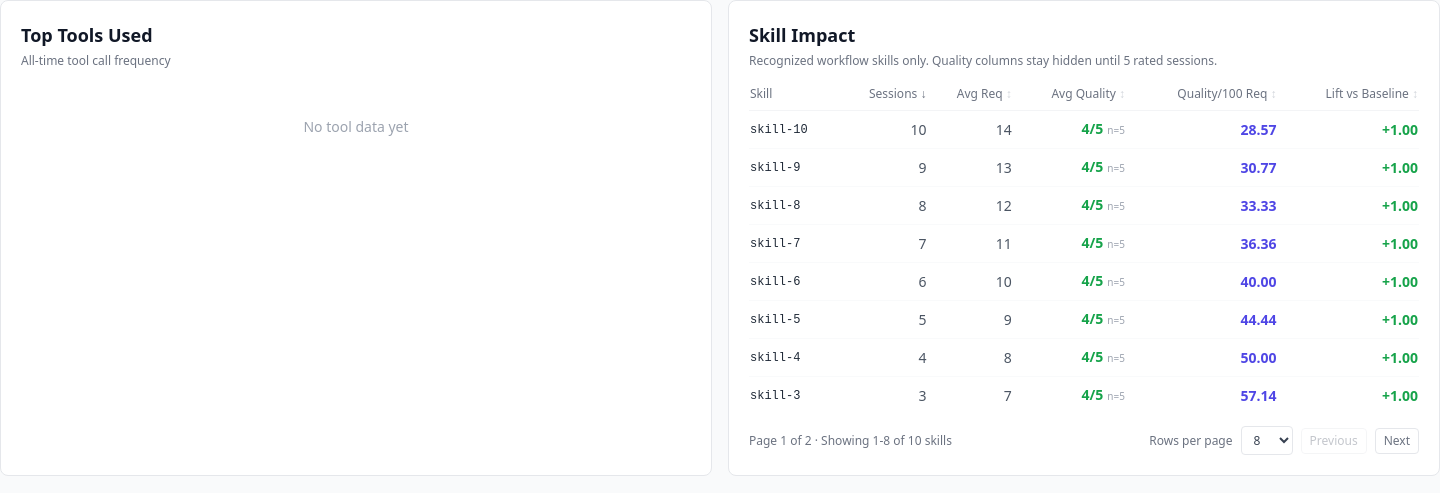
ToolBreakdown pagination › paginates the skill impact table
Expected: the text "skill-10" is shown, x1=749 y1=110 x2=838 y2=148
Click the button "Next" at (1397, 440), box x1=1375 y1=428 x2=1419 y2=454
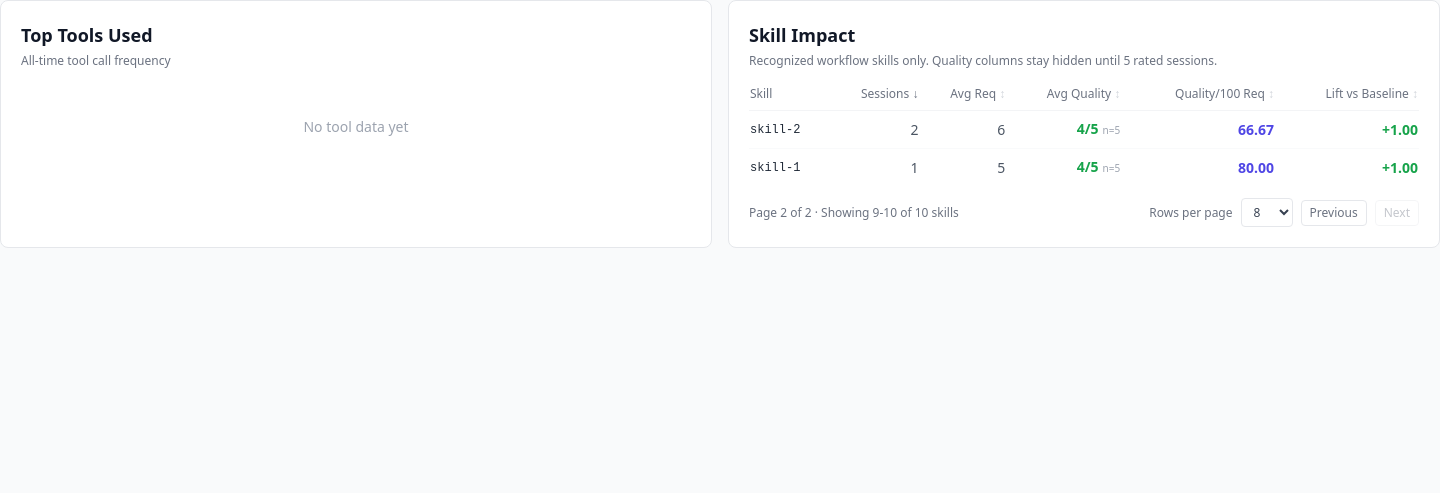
Expected: the text "skill-1" is shown, x1=749 y1=148 x2=829 y2=186
Expected: the text "skill-10" is gone
